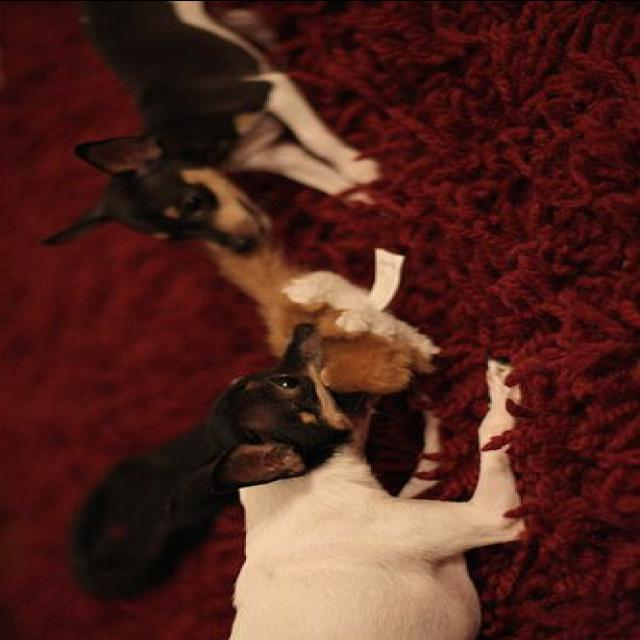toy_terrier: (200, 318, 530, 638), (38, 0, 380, 257)
